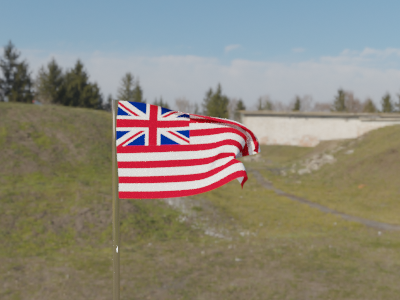Malaysia flag: (117, 95, 264, 200)
